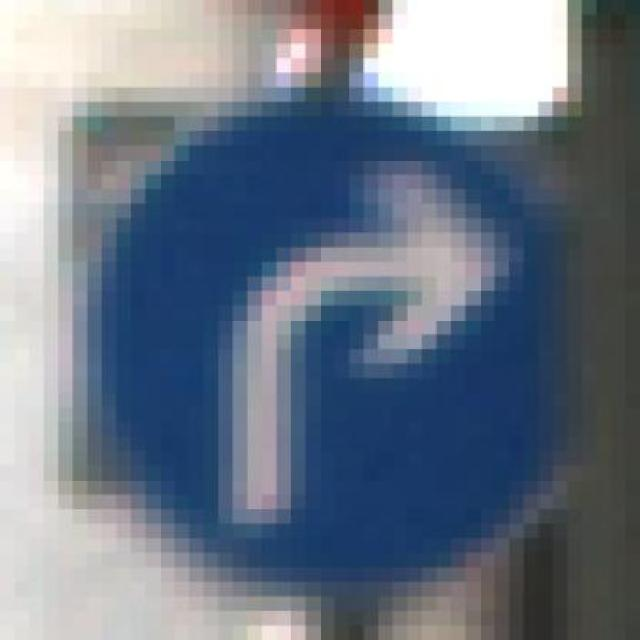Turn right ahead: (58, 87, 582, 596)
